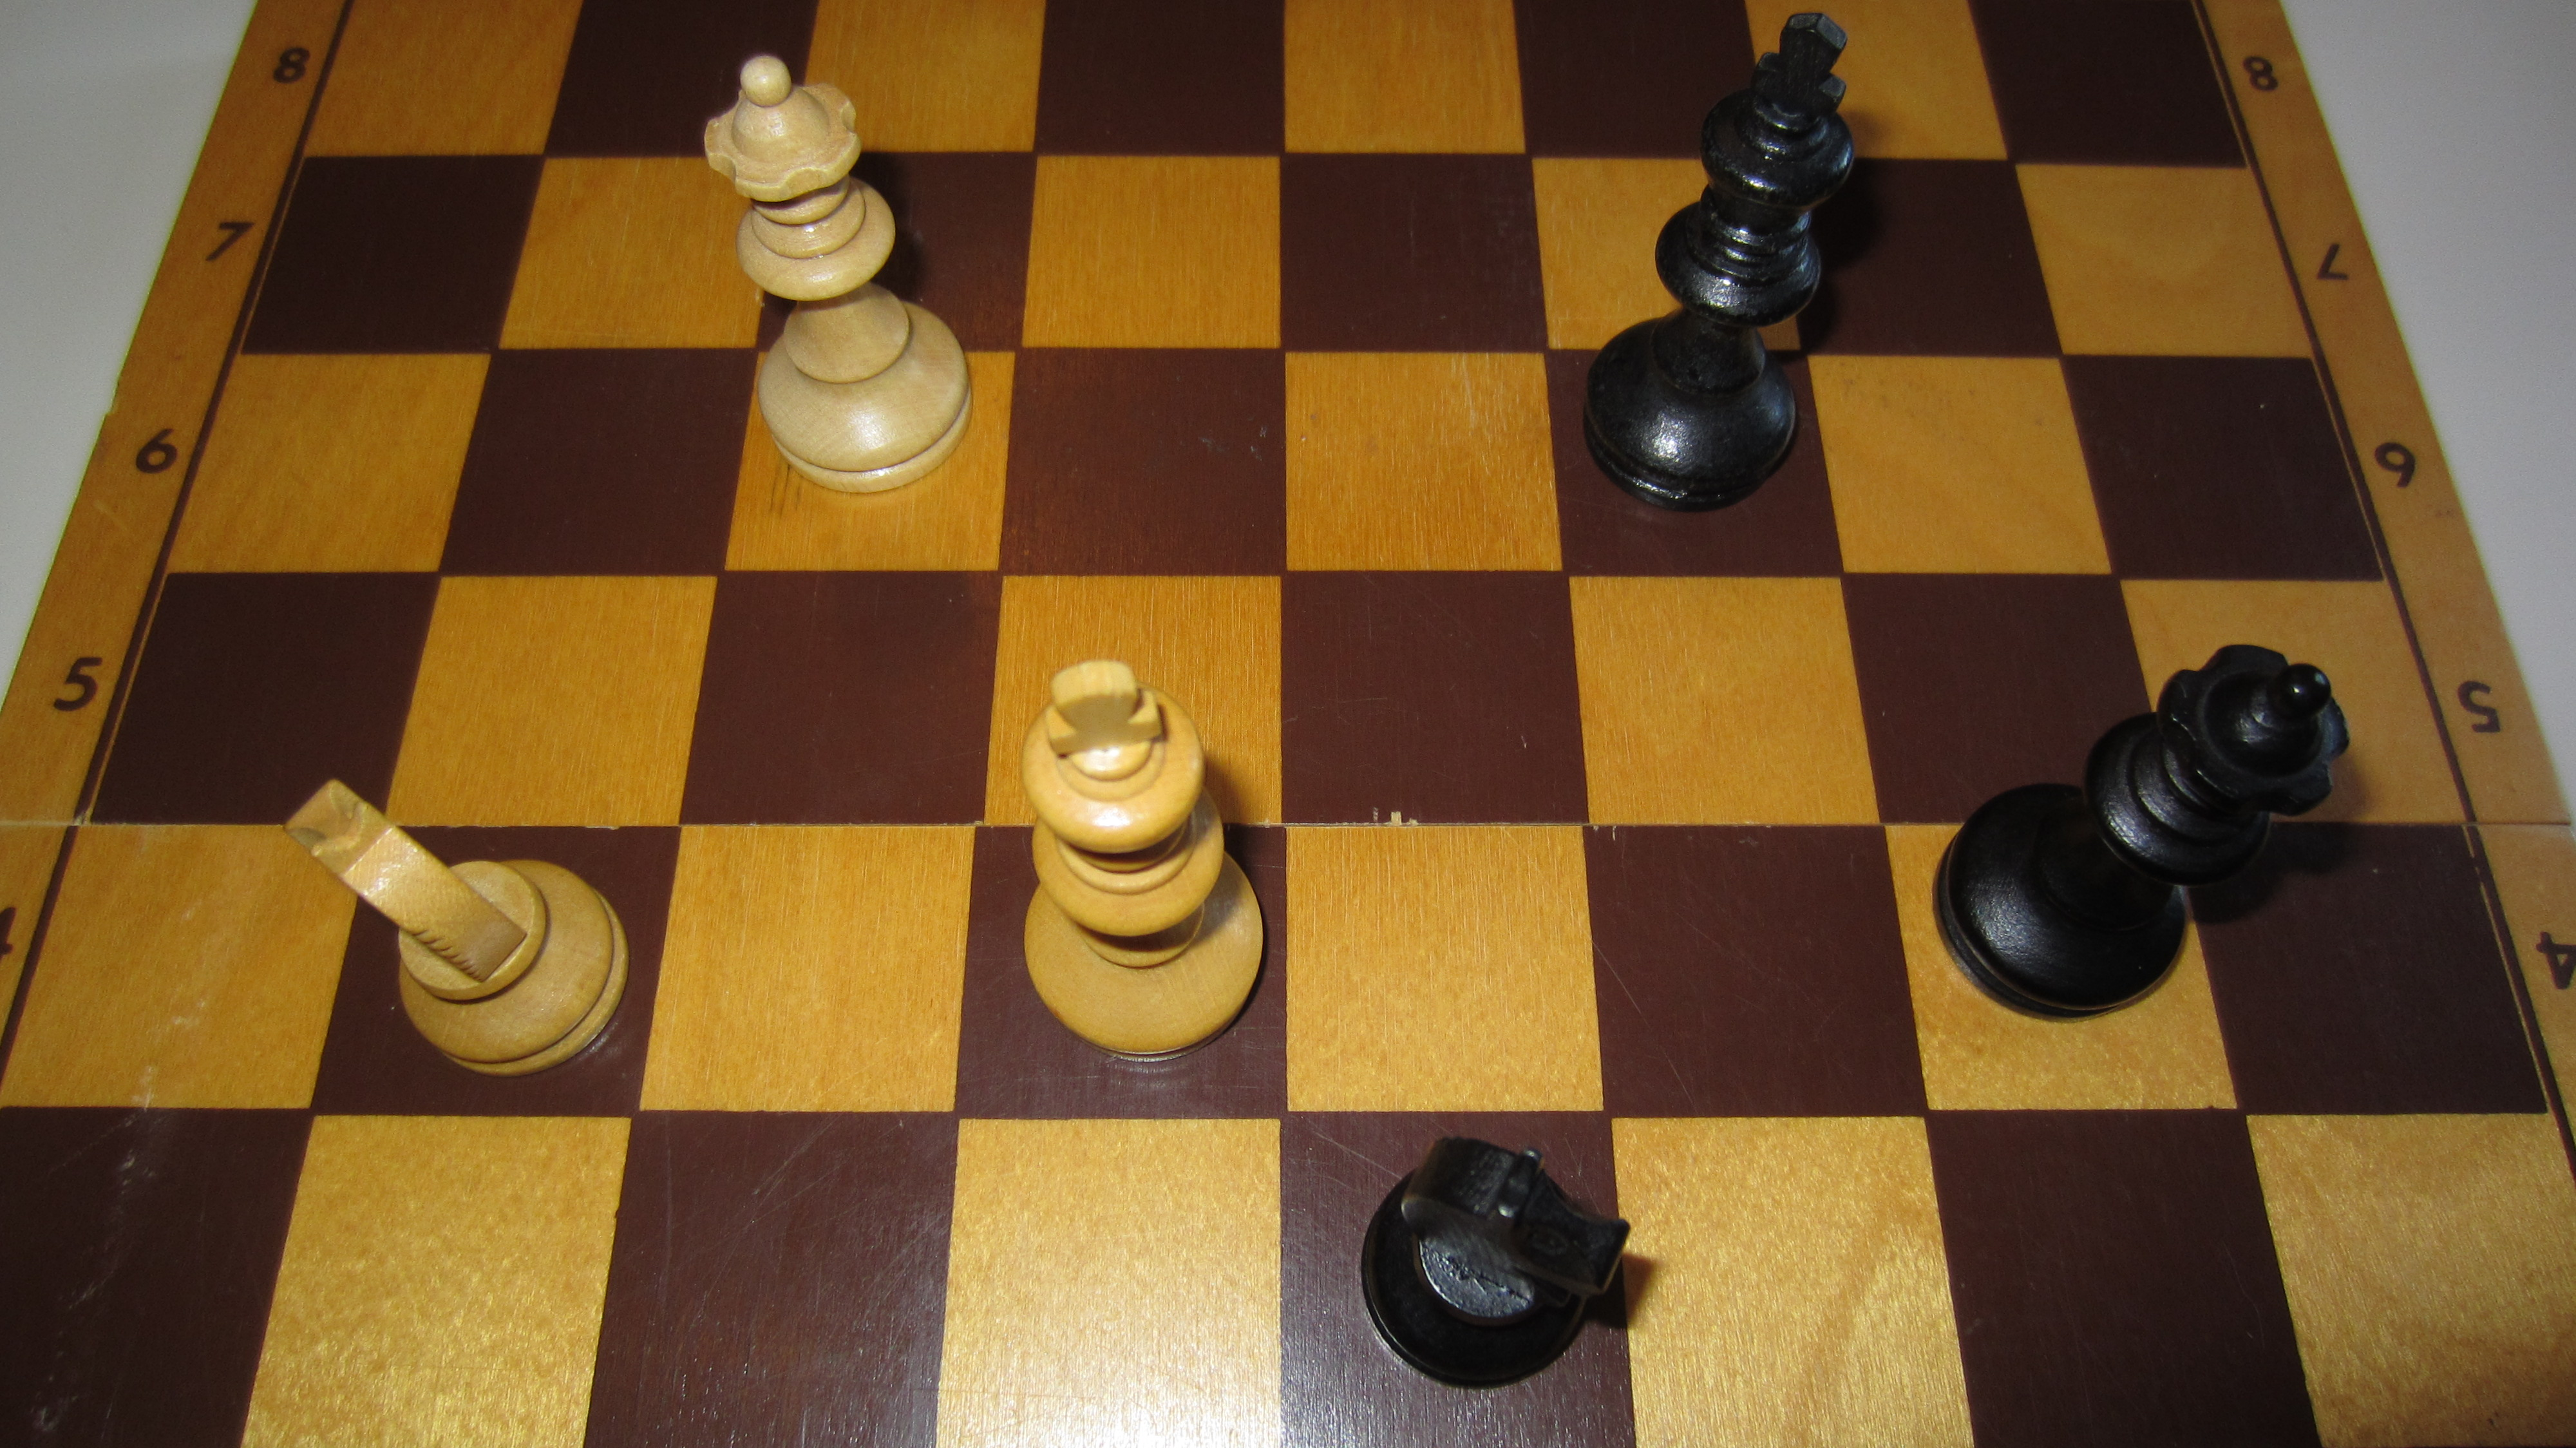black-king: (1580, 9, 1858, 513)
black-knight: (1355, 1135, 1633, 1393)
black-queen: (1930, 637, 2358, 1020)
white-king: (1016, 659, 1267, 1066)
white-knight: (281, 775, 635, 1080)
white-queen: (699, 50, 980, 497)
